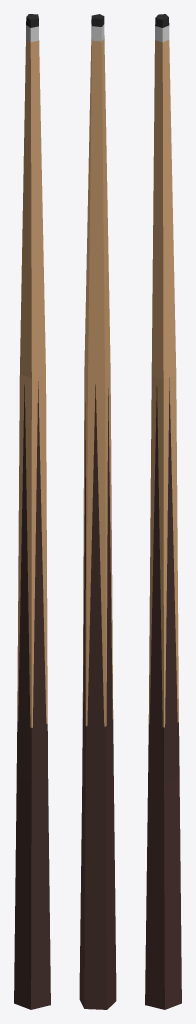
Rendered from PoolCue.fbx.
3 views of the same model, side by side, from view 1: azimuth 30°, elevation 25°; view 2: azimuth 210°, elevation 25°; view 3: azimuth 330°, elevation 25° (orthographic).
Visible parts, largest first — view 1: Cylinder; view 2: Cylinder; view 3: Cylinder.
Boxes of the visible parts, x1,y1,x2,y2 form: Cylinder: (14,14,50,1009); Cylinder: (79,14,116,1009); Cylinder: (145,14,181,1009).
Size of the model in its own units: 9.82 by 287 by 9.34.
